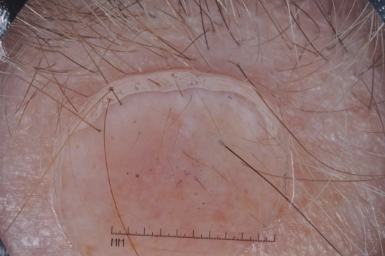seborrheic keratosis: (54, 60, 304, 226)
